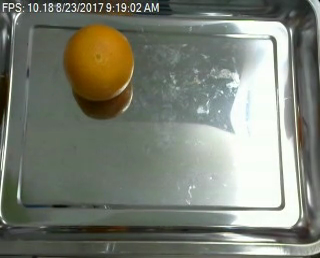Orange: (62, 22, 133, 101)
